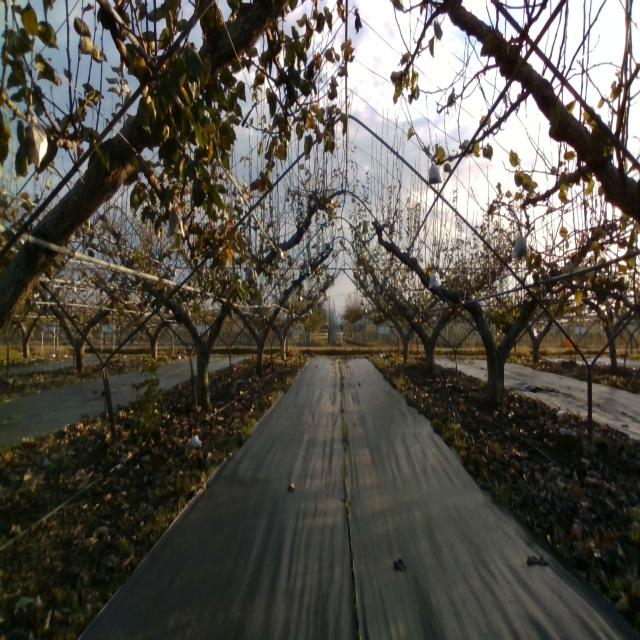pearbags: (22, 104, 49, 169), (166, 202, 186, 238), (511, 231, 527, 258), (428, 158, 442, 186), (428, 268, 442, 290), (244, 265, 256, 284)
